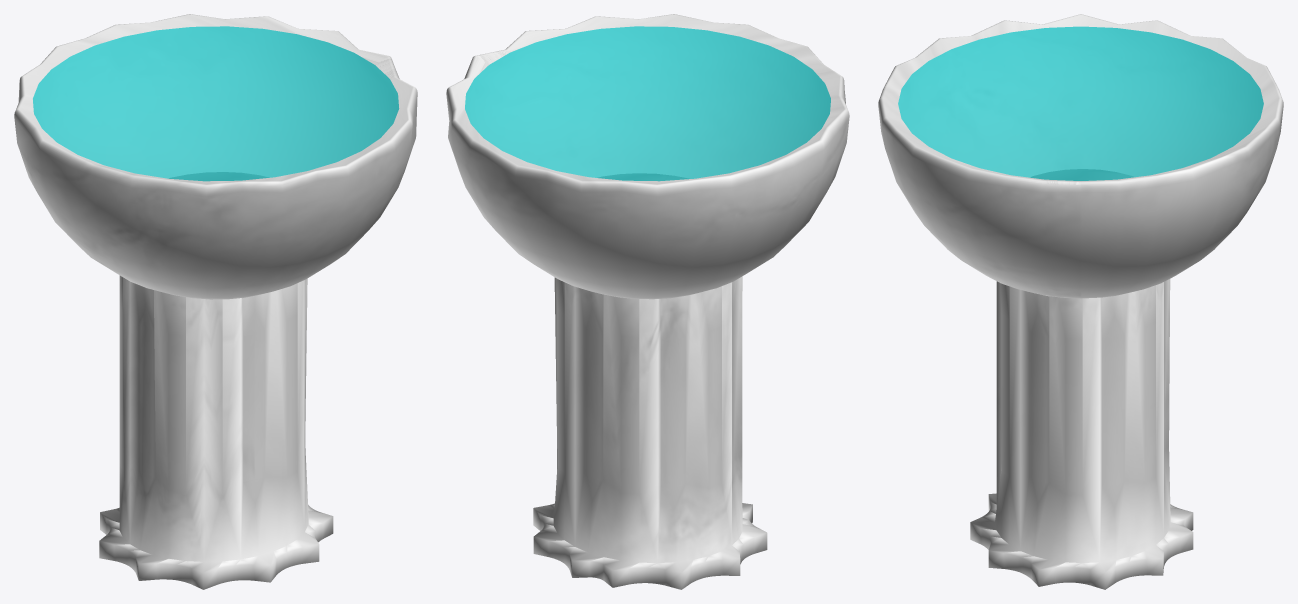
File: Fountain.glb
The picture shows the model from 3 angles, left to right: view 1: azimuth 30°, elevation 25°; view 2: azimuth 150°, elevation 25°; view 3: azimuth 270°, elevation 25°; orthographic projection.
Visible parts, largest first — view 1: Fountain; view 2: Fountain; view 3: Fountain.
Part boxes in pixels (x1,y1,x2,y2): Fountain: (14, 14, 417, 589); Fountain: (446, 14, 849, 589); Fountain: (878, 14, 1283, 589).
Size of the model in its own units: 0.8323 by 1 by 0.8326.
2 materials, 1 textured.
